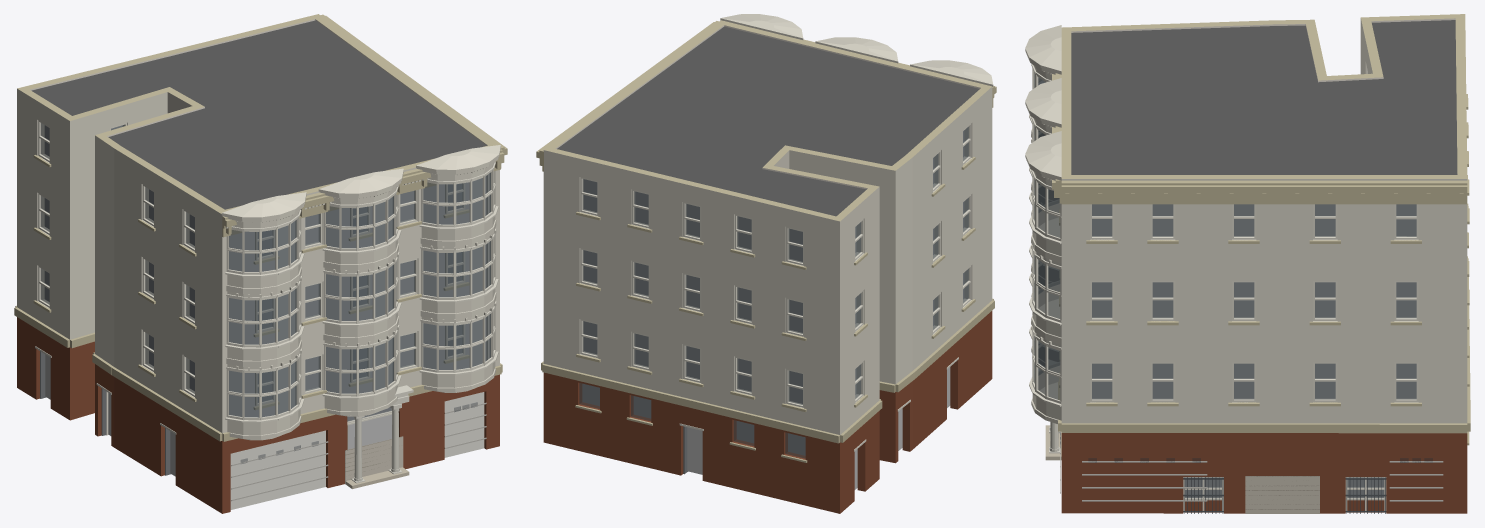
The model's file is exterior.glb.
3 renders of one model, left to right at view 1: azimuth 30°, elevation 25°; view 2: azimuth 150°, elevation 25°; view 3: azimuth 270°, elevation 25°, orthographic. The views are drawn at different scales.
Parts seen in each view (by area): view 1: shell, roof, bay-glazing-hyb, shadow-proxy, bay-windows-hyb, storefront, trim, glazing, frames, relief-0, hand-ornament; view 2: shell, roof, glazing, shadow-proxy, trim, frames, bay-windows-hyb; view 3: shell, roof, trim, glazing, shadow-proxy, bay-windows-hyb, bay-glazing-hyb, frames, relief-1, storefront, hand-ornament.
Boxes of the visible parts, x1,y1,x2,y2 form: shell: (17, 14, 499, 513); roof: (31, 20, 486, 209); bay-glazing-hyb: (225, 163, 498, 422); shadow-proxy: (45, 125, 485, 476); bay-windows-hyb: (221, 145, 500, 440); storefront: (35, 346, 484, 509); trim: (14, 14, 507, 441); glazing: (41, 123, 462, 421); frames: (38, 120, 464, 405); relief-0: (231, 402, 486, 501); hand-ornament: (345, 385, 413, 488); shell: (543, 20, 992, 513); roof: (557, 26, 979, 216); glazing: (579, 127, 968, 458); shadow-proxy: (582, 131, 963, 489); trim: (536, 21, 996, 462); frames: (580, 124, 971, 407); bay-windows-hyb: (720, 14, 993, 86); shell: (1061, 14, 1467, 513); roof: (1071, 20, 1457, 174); trim: (1052, 73, 1470, 445); glazing: (1092, 204, 1416, 497); shadow-proxy: (1092, 204, 1416, 497); bay-windows-hyb: (1025, 25, 1061, 423); bay-glazing-hyb: (1029, 64, 1061, 406); frames: (1090, 68, 1418, 402); relief-1: (1082, 458, 1443, 513); storefront: (1183, 477, 1386, 513); hand-ornament: (1045, 360, 1061, 460).
Size of the model in its own units: 14.04 by 13.07 by 15.5.
